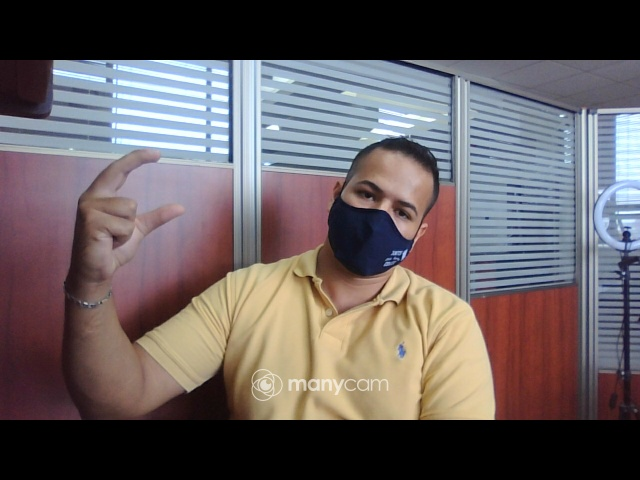No: (57, 147, 190, 283)
